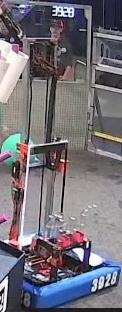blue_number: (86, 270, 121, 295)
